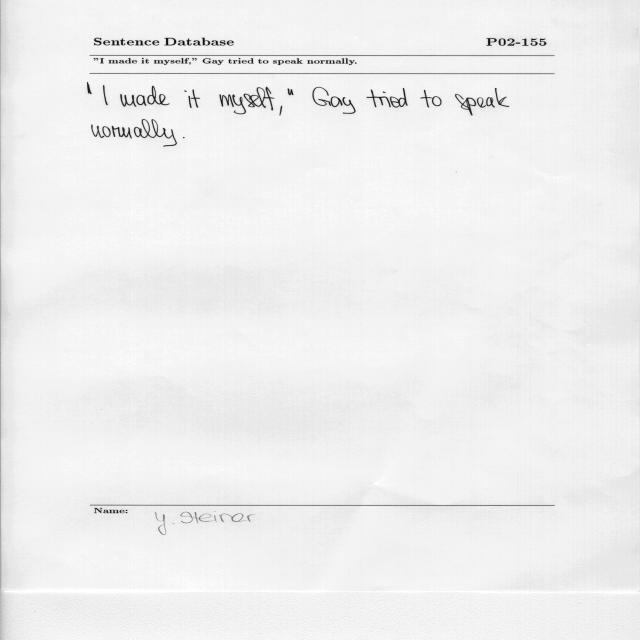word: (92, 120, 177, 147), (455, 88, 509, 116), (220, 87, 275, 114), (312, 87, 356, 114), (120, 86, 170, 107), (367, 88, 408, 108), (421, 90, 442, 107), (184, 89, 200, 108), (103, 85, 108, 105), (88, 83, 92, 94), (288, 89, 293, 96), (280, 106, 282, 116), (183, 137, 185, 138)
